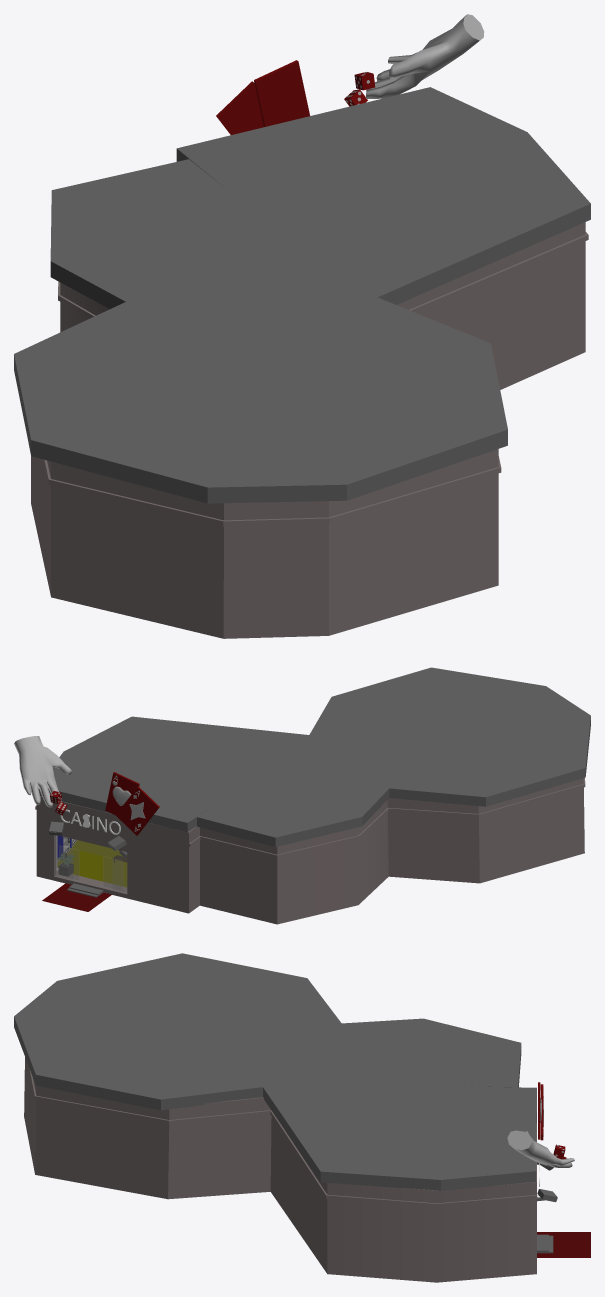
The model's file is Casino.fbx.
3 renders of one model, top to bottom at view 1: azimuth 30°, elevation 25°; view 2: azimuth 150°, elevation 25°; view 3: azimuth 270°, elevation 25°, orthographic. The views are drawn at different scales.
Parts seen in each view (by area): view 1: pCube1, Casino_01:polySurface7, AnatomyHandHumanMale_hand_basemesh, pCube9, pCube3; view 2: pCube1, Casino_01:polySurface7, AnatomyHandHumanMale_hand_basemesh, Casino_01:pCube9, pCube3, pCube5, Casino_01:pCube14, Casino_01:pCube19, pCube9, typeMesh2; view 3: pCube1, Casino_01:polySurface7, pCube5, AnatomyHandHumanMale_hand_basemesh.
Part boxes in pixels (x1=…): pCube1: x1=14, y1=87, x2=590, y2=503; Casino_01:polySurface7: x1=31, y1=222, x2=588, y2=638; AnatomyHandHumanMale_hand_basemesh: x1=366, y1=14, x2=484, y2=98; pCube9: x1=254, y1=60, x2=309, y2=126; pCube3: x1=216, y1=81, x2=263, y2=134; pCube1: x1=38, y1=667, x2=590, y2=847; Casino_01:polySurface7: x1=35, y1=778, x2=585, y2=924; AnatomyHandHumanMale_hand_basemesh: x1=14, y1=736, x2=72, y2=807; Casino_01:pCube9: x1=55, y1=835, x2=126, y2=892; pCube3: x1=115, y1=786, x2=159, y2=835; pCube5: x1=42, y1=883, x2=111, y2=911; Casino_01:pCube14: x1=59, y1=845, x2=79, y2=880; Casino_01:pCube19: x1=103, y1=856, x2=122, y2=891; pCube9: x1=105, y1=772, x2=139, y2=815; typeMesh2: x1=60, y1=809, x2=120, y2=834; pCube1: x1=14, y1=953, x2=536, y2=1190; Casino_01:polySurface7: x1=24, y1=1057, x2=537, y2=1282; pCube5: x1=537, y1=1232, x2=590, y2=1257; AnatomyHandHumanMale_hand_basemesh: x1=507, y1=1130, x2=574, y2=1167.
Bounding box in the file's own units: 699 × 212 × 732.
